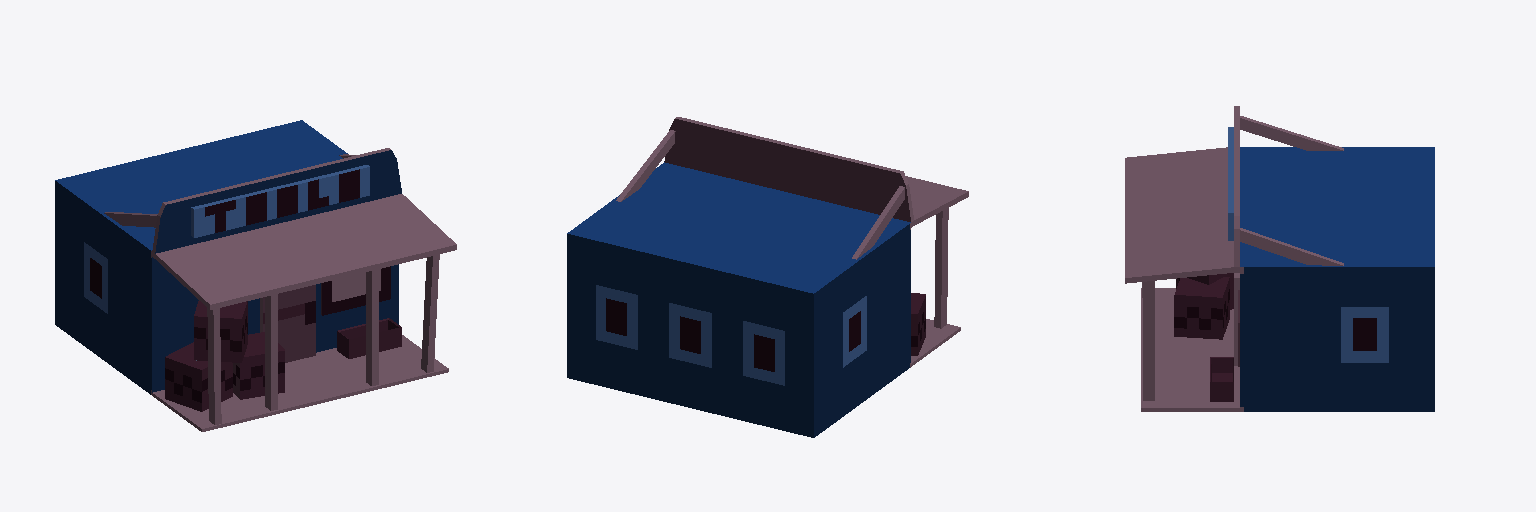
3 renders of one model, left to right at view 1: azimuth 30°, elevation 25°; view 2: azimuth 150°, elevation 25°; view 3: azimuth 270°, elevation 25°, orthographic.
Parts seen in each view (by area): view 1: building, beams, front_sign, display_crate_1, door, display_crate_3, display_crate_2, sale_sign, tool_bin, sign_support_1; view 2: building, beams, sign_support_2, sign_support_1, display_crate_1; view 3: building, display_crate_2, beams, sign_support_2, sign_support_1, tool_bin, front_sign.
Boxes of the visible parts, x1,y1,x2,y2 form: building: [55, 120, 456, 431]; beams: [207, 254, 439, 424]; front_sign: [191, 165, 369, 237]; display_crate_1: [165, 342, 232, 411]; door: [260, 285, 315, 362]; display_crate_3: [194, 301, 247, 362]; display_crate_2: [233, 332, 284, 399]; sale_sign: [321, 266, 390, 315]; tool_bin: [337, 318, 401, 358]; sign_support_1: [104, 212, 157, 227]; building: [567, 117, 968, 437]; beams: [934, 208, 948, 328]; sign_support_2: [616, 130, 675, 201]; sign_support_1: [852, 186, 904, 259]; display_crate_1: [911, 293, 925, 355]; building: [1125, 106, 1434, 411]; display_crate_2: [1174, 277, 1229, 339]; beams: [1142, 281, 1154, 400]; sign_support_2: [1240, 228, 1343, 265]; sign_support_1: [1240, 116, 1343, 150]; tool_bin: [1210, 357, 1233, 401]; front_sign: [1228, 127, 1233, 240].
Size of the model in its own units: 1.47 by 1.08 by 1.59.
1 materials, 1 textured.